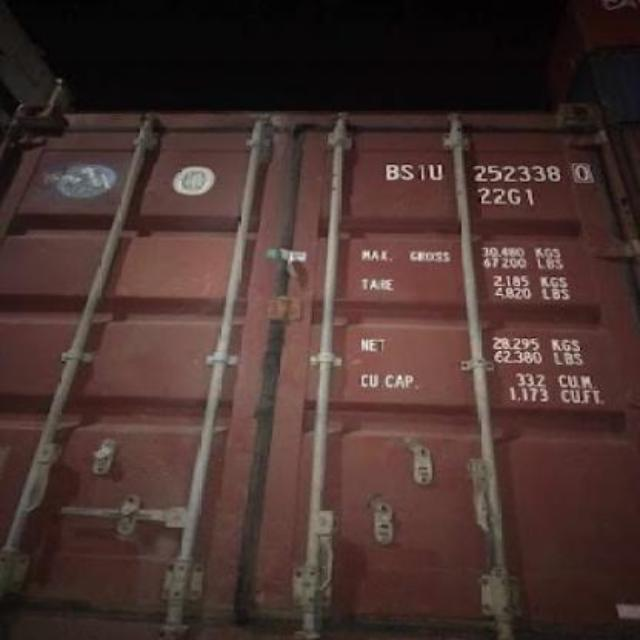0: (574, 164, 588, 182)
2: (504, 163, 518, 184), (474, 166, 488, 184)
3: (530, 163, 550, 187), (520, 167, 532, 183)
5: (488, 166, 502, 184)
8: (544, 164, 562, 182)
B: (384, 163, 400, 181)
I: (420, 164, 426, 182)
S: (400, 164, 418, 180)
U: (428, 162, 444, 182)
